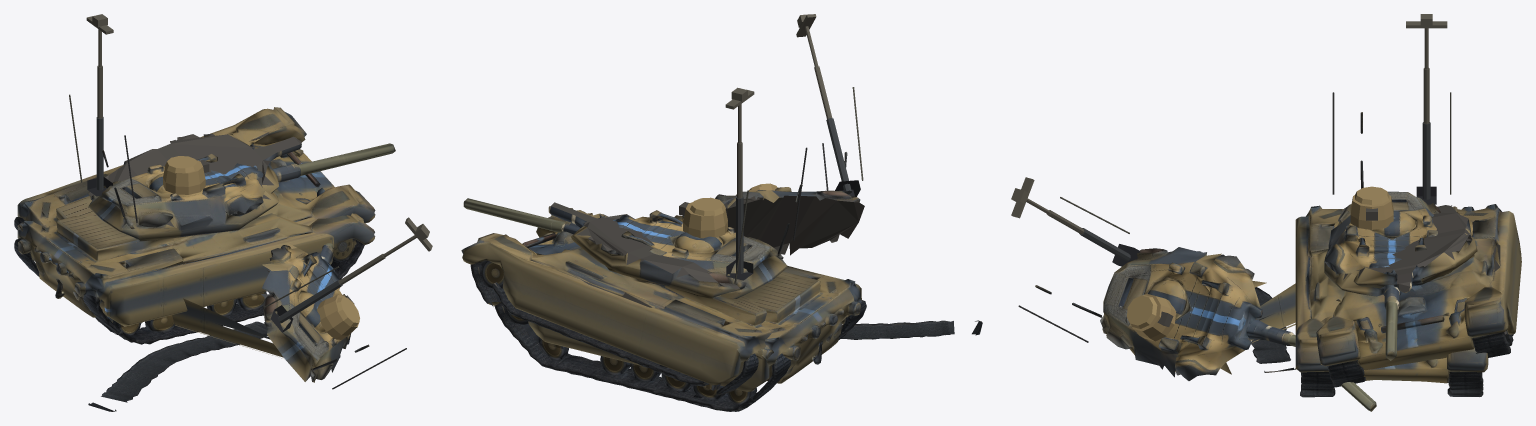
The model's file is officer_armour.glb.
The picture shows the model from 3 angles, left to right: view 1: azimuth 30°, elevation 25°; view 2: azimuth 150°, elevation 25°; view 3: azimuth 270°, elevation 25°; orthographic projection. The views are drawn at different scales.
Visible parts, largest first — view 1: hull_hull, WRECK_hull_hull, turret_hull, WRECK_turret_hull, turret_metal, WRECK_hull_rubber, WRECK_turret_metal, hull_rubber; view 2: WRECK_hull_hull, hull_hull, turret_hull, WRECK_turret_hull, hull_rubber, WRECK_hull_rubber, turret_metal, WRECK_turret_metal; view 3: WRECK_hull_hull, WRECK_turret_hull, hull_hull, turret_hull, turret_metal, WRECK_turret_metal, WRECK_hull_rubber, hull_rubber.
Boxes of the visible parts, left/top/right/bottom form: hull_hull: left=14, top=169, right=375, bottom=333; WRECK_hull_hull: left=14, top=107, right=375, bottom=358; turret_hull: left=89, top=154, right=273, bottom=229; WRECK_turret_hull: left=261, top=242, right=359, bottom=382; turret_metal: left=69, top=14, right=395, bottom=222; WRECK_hull_rubber: left=88, top=321, right=267, bottom=411; WRECK_turret_metal: left=264, top=217, right=432, bottom=389; hull_rubber: left=34, top=272, right=342, bottom=344; WRECK_hull_hull: left=461, top=202, right=832, bottom=395; hull_hull: left=488, top=213, right=866, bottom=399; turret_hull: left=613, top=197, right=786, bottom=289; WRECK_turret_hull: left=715, top=183, right=864, bottom=255; hull_rubber: left=518, top=333, right=846, bottom=411; WRECK_hull_rubber: left=491, top=282, right=982, bottom=386; turret_metal: left=463, top=87, right=807, bottom=283; WRECK_turret_metal: left=796, top=14, right=863, bottom=196; WRECK_hull_hull: left=1175, top=204, right=1521, bottom=387; WRECK_turret_hull: left=1100, top=247, right=1266, bottom=380; hull_hull: left=1295, top=204, right=1488, bottom=388; turret_hull: left=1324, top=186, right=1440, bottom=282; turret_metal: left=1332, top=14, right=1451, bottom=360; WRECK_turret_metal: left=1011, top=177, right=1376, bottom=411; WRECK_hull_rubber: left=1197, top=251, right=1513, bottom=372; hull_rubber: left=1300, top=372, right=1483, bottom=397.
Bounding box in the file's own units: 7.27 × 5.07 × 7.67.
1 material, 1 textured.
